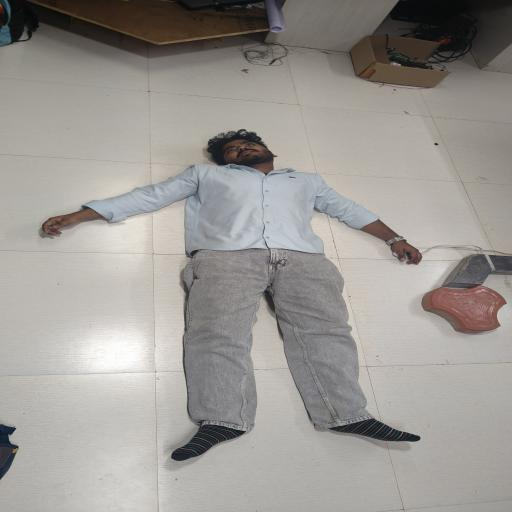survivor: (40, 129, 424, 462)
